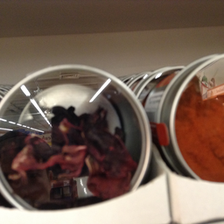spices: (1, 64, 149, 209), (158, 54, 224, 184)
